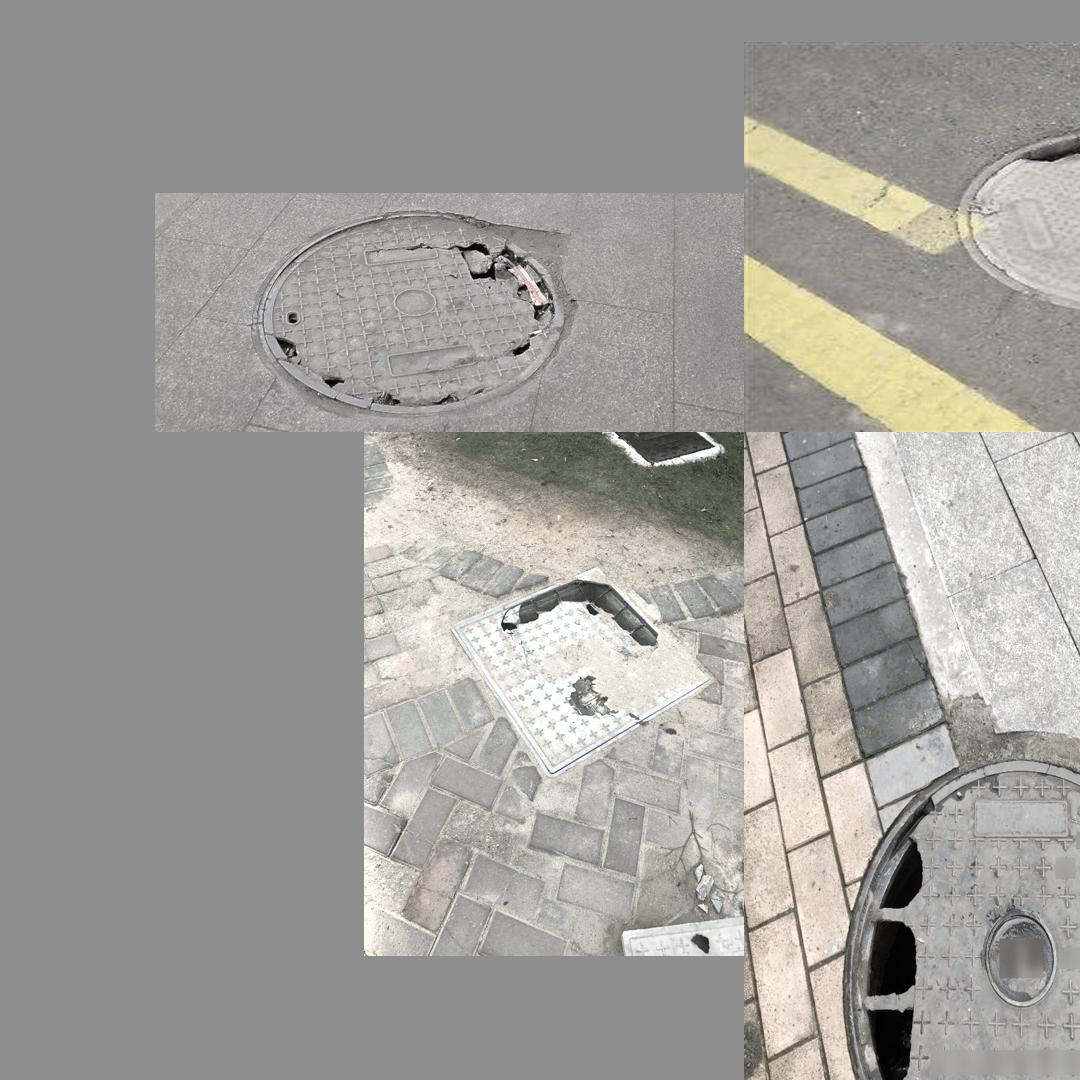broke: (853, 790, 1080, 1080), (257, 211, 568, 415), (451, 565, 717, 779), (939, 117, 1080, 320)
